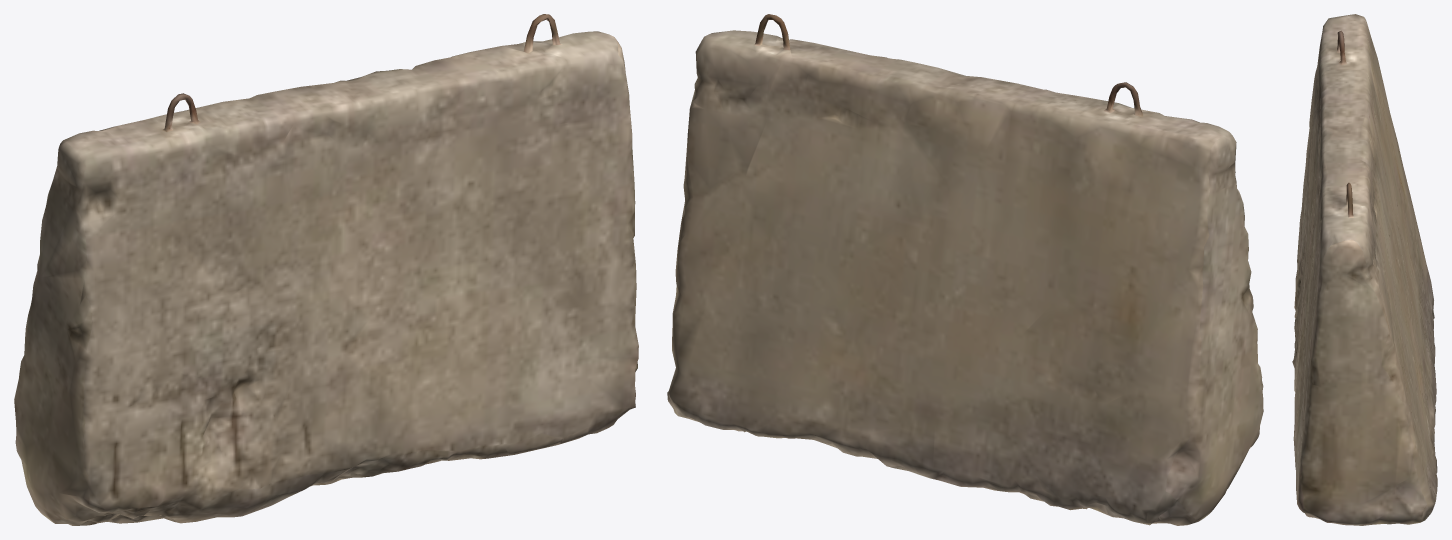
File: concrete_road_barrier_02.glb
3 views of the same model, side by side, from view 1: azimuth 30°, elevation 25°; view 2: azimuth 150°, elevation 25°; view 3: azimuth 270°, elevation 25° (orthographic). The views are drawn at different scales.
Parts seen in each view (by area): view 1: concrete_road_barrier_02; view 2: concrete_road_barrier_02; view 3: concrete_road_barrier_02.
Boxes of the visible parts, <box> form: concrete_road_barrier_02: <box>14,14,638,525</box>; concrete_road_barrier_02: <box>667,14,1263,525</box>; concrete_road_barrier_02: <box>1292,14,1437,525</box>.
Bounding box in the file's own units: 1.56 × 1.11 × 0.4421.
1 material, 1 textured.
